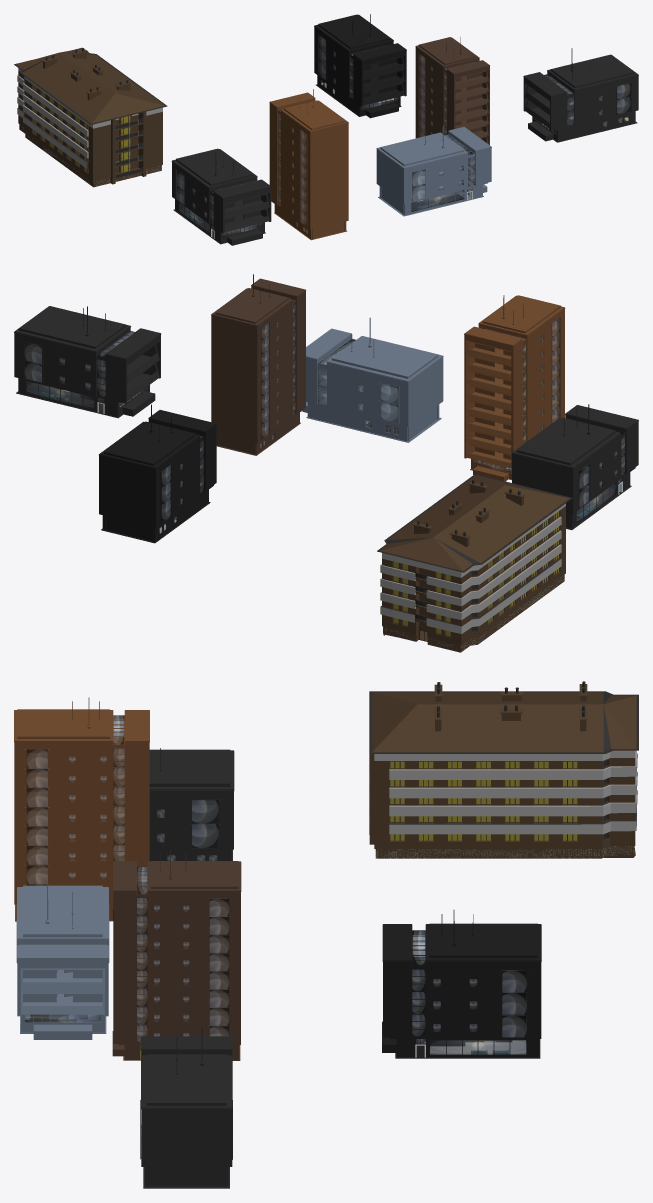
File: Edificios03.fbx
The picture shows the model from 3 angles, top to bottom: view 1: azimuth 30°, elevation 25°; view 2: azimuth 150°, elevation 25°; view 3: azimuth 270°, elevation 25°; orthographic projection. The views are drawn at different scales.
Parts seen in each view (by area): view 1: Edificio6, Edificio07.005, Edificio07.002, Edificio07.001, Edificio07.004, Edificio07.003, Edificio07; view 2: Edificio6, Edificio07.005, Edificio07, Edificio07.002, Edificio07.001, Edificio07.004, Edificio07.003; view 3: Edificio6, Edificio07.005, Edificio07, Edificio07.004, Edificio07.001, Edificio07.002, Edificio07.003.
Boxes of the visible parts, x1,y1,x2,y2 form: Edificio6: (14,47,167,187); Edificio07.005: (269,89,348,240); Edificio07.002: (523,48,638,142); Edificio07.001: (376,125,491,216); Edificio07.004: (314,14,406,118); Edificio07.003: (171,148,271,245); Edificio07: (415,37,489,144); Edificio6: (377,474,572,652); Edificio07.005: (464,295,565,481); Edificio07: (211,274,306,455); Edificio07.002: (14,306,161,418); Edificio07.001: (302,317,443,442); Edificio07.004: (99,404,216,543); Edificio07.003: (511,404,638,529); Edificio6: (369,681,638,858); Edificio07.005: (14,697,149,921); Edificio07: (112,849,241,1060); Edificio07.004: (382,910,541,1058); Edificio07.001: (16,885,109,1039); Edificio07.002: (140,1027,232,1188); Edificio07.003: (149,748,234,861).
Bounding box in the file's own units: 32247 × 8386 × 21902.
28 materials, 15 textured.
